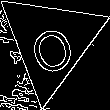O_N: (23, 10, 78, 74)
